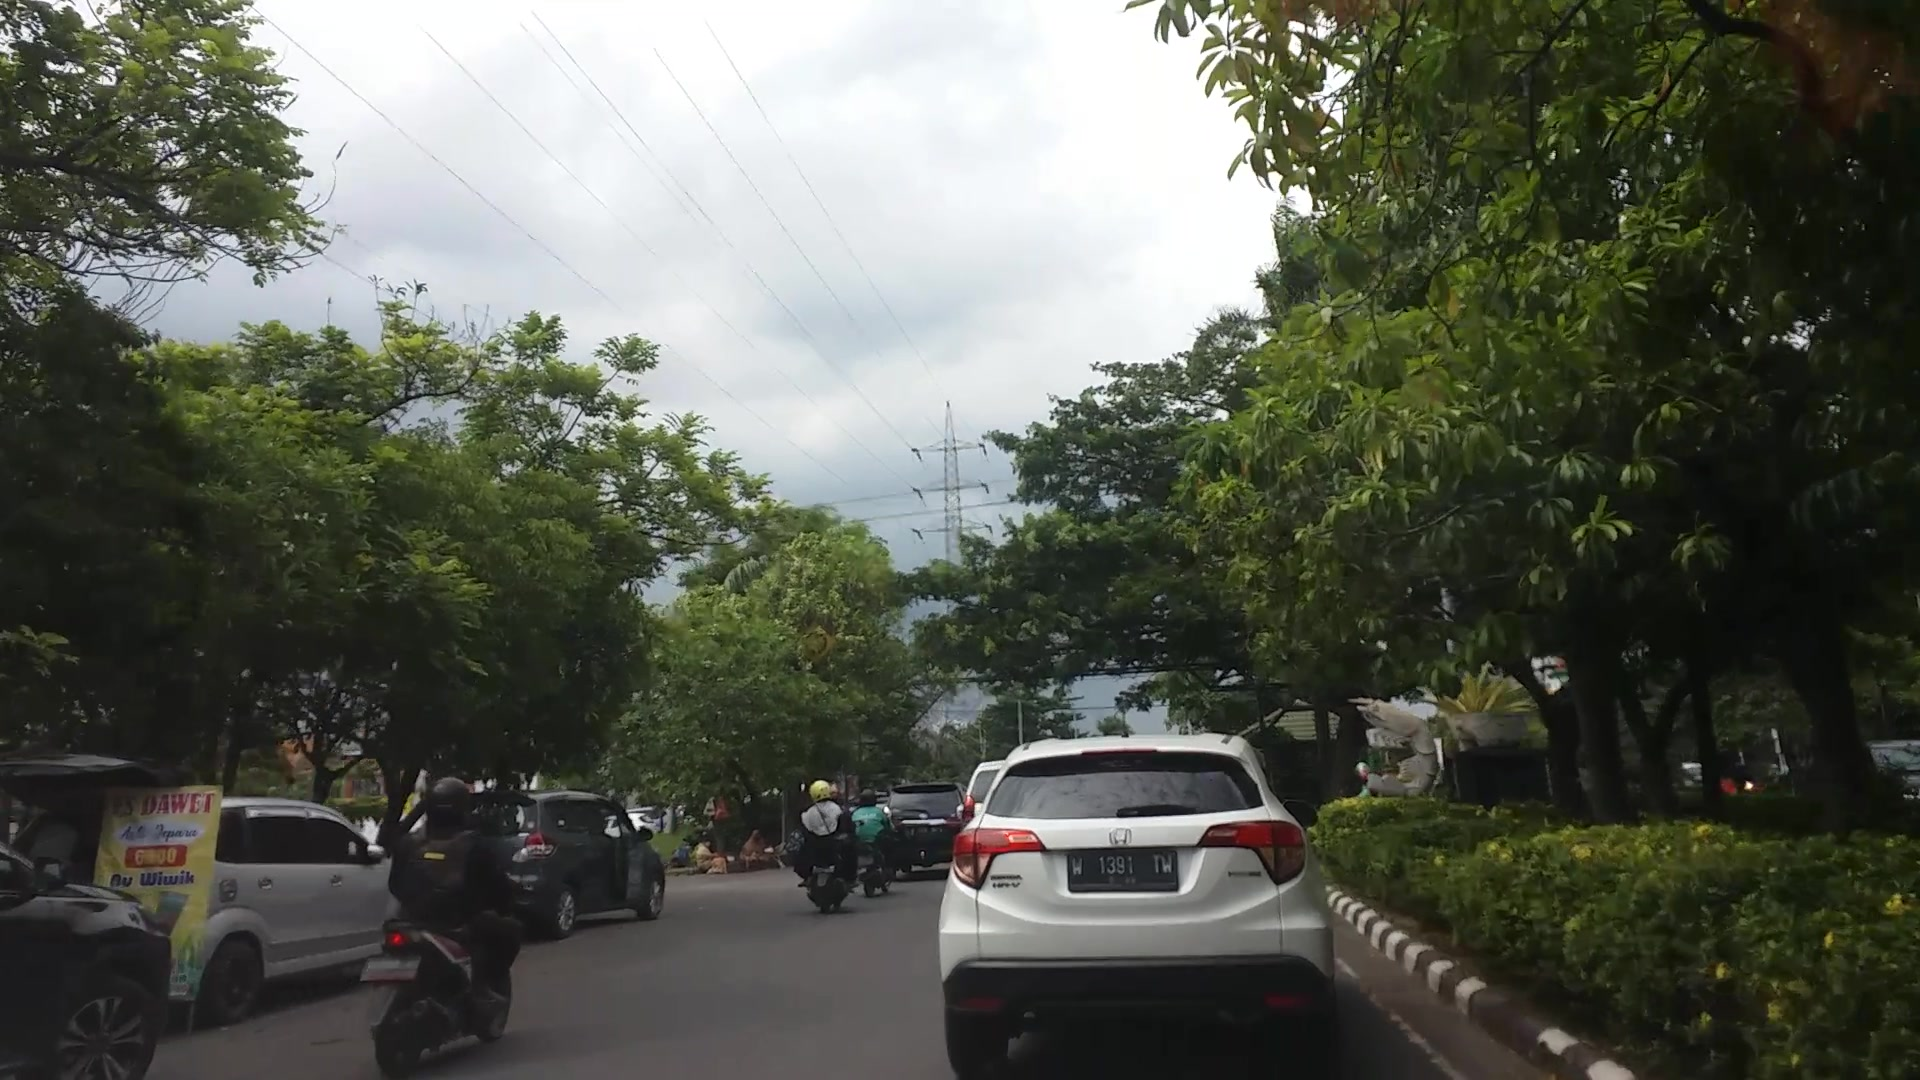plate_positive: (1068, 851, 1179, 891)
